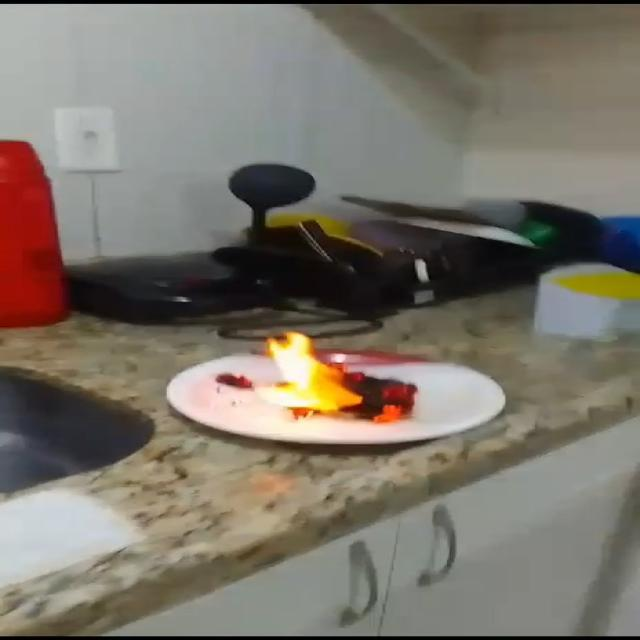fogo-ypXI: (252, 330, 420, 427)
